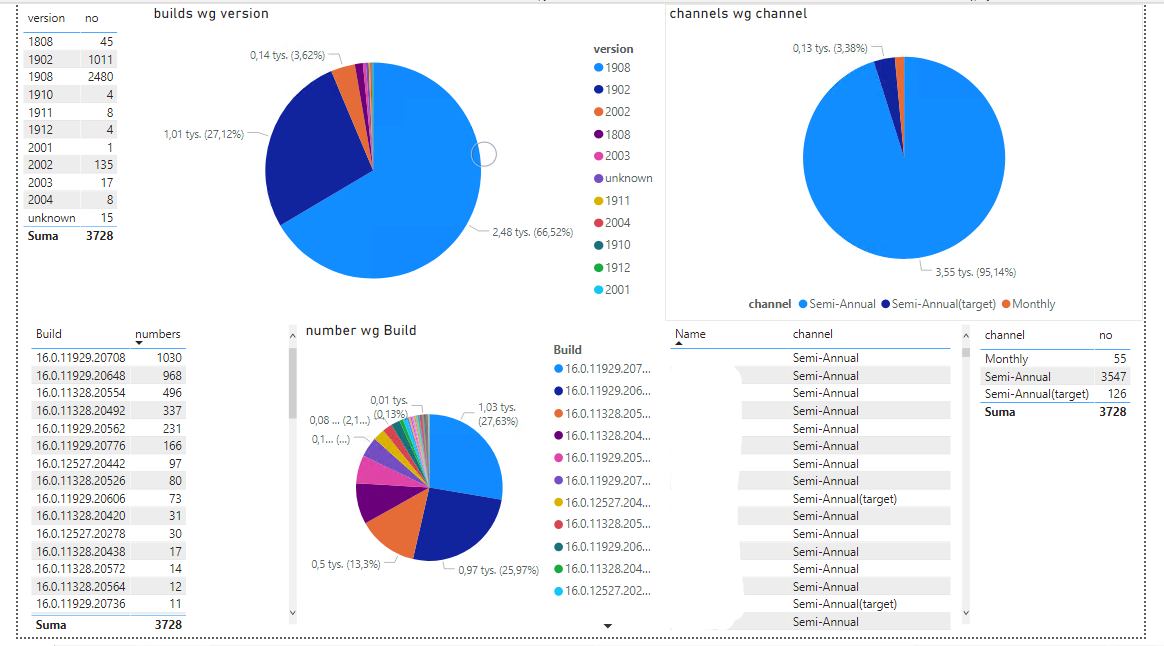

What the dashboard file says about the page in this screenshot:
{"tool":"powerbi","page":{"name":"Strona 1","canvas":[1280,720],"ordinal":0},"visuals":[{"type":"pieChart","fields":{"Category":["office.version"],"Y":["CountNonNull(office.Build)"]},"box":[148.8,0,587.5,359.9],"z":0},{"type":"tableEx","fields":{"Values":["office.Build","CountNonNull(office.Name)"]},"box":[9.4,359.5,312.7,360.5],"z":1000},{"type":"tableEx","fields":{"Values":["office.Name","channels names.channel"]},"box":[735.9,359.5,352,360.5],"z":2000},{"type":"tableEx","fields":{"Values":["office.version","office.CDN"]},"box":[0,0,148.8,359.9],"z":3000},{"type":"pieChart","fields":{"Category":["channels names.channel"],"Y":["CountNonNull(office.CDN)"]},"box":[735.9,0,544,360.5],"z":4000},{"type":"tableEx","fields":{"Values":["channels names.channel","office.CDN"]},"box":[1088.5,360.6,191.1,137.6],"z":5000},{"type":"pieChart","fields":{"Category":["office.Build"],"Y":["CountNonNull(office.CDN)"]},"box":[322,360,414,360],"z":6000}]}

Visuals, with their boxes in screenshot pixels (x1, y1, x2, y2), scaled from the page's 1280x720 canvas onto the 1164x646 screenshot:
pieChart - office.version x CountNonNull(office.Build): locate(135, 0, 670, 323)
tableEx - office.Build x CountNonNull(office.Name): locate(9, 323, 293, 645)
tableEx - office.Name x channels names.channel: locate(669, 323, 989, 645)
tableEx - office.version x office.CDN: locate(0, 0, 135, 323)
pieChart - channels names.channel x CountNonNull(office.CDN): locate(669, 0, 1163, 323)
tableEx - channels names.channel x office.CDN: locate(990, 324, 1163, 447)
pieChart - office.Build x CountNonNull(office.CDN): locate(293, 323, 669, 645)
